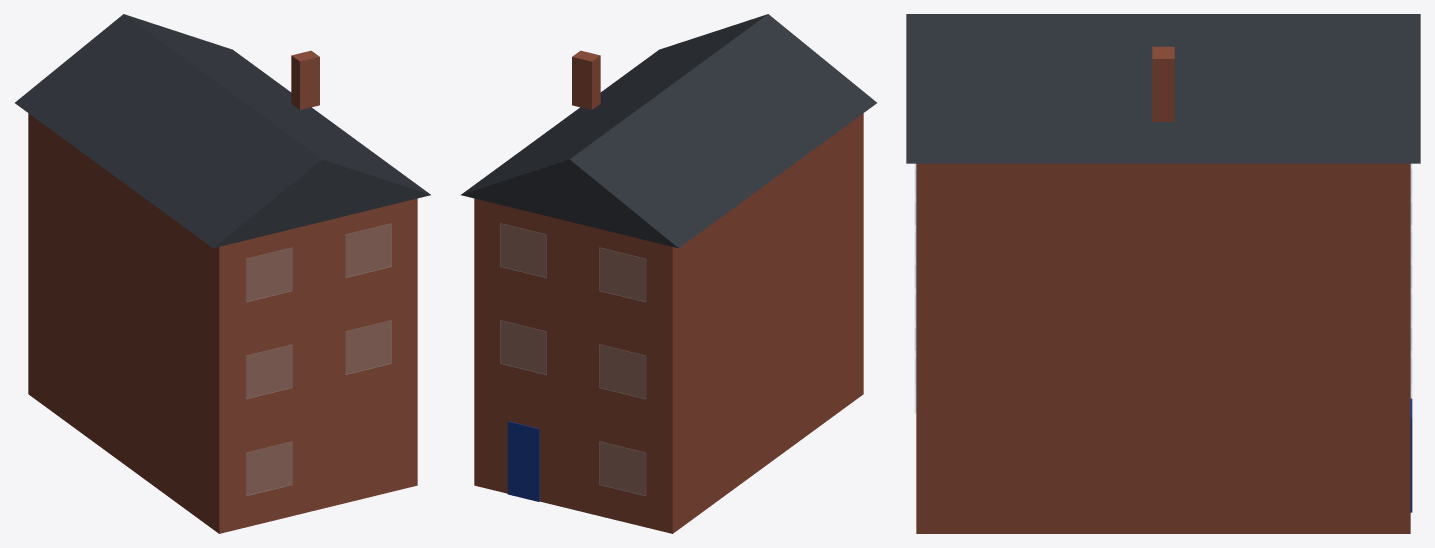
File: context.house_3_storey.glb
3 renders of one model, left to right at view 1: azimuth 30°, elevation 25°; view 2: azimuth 150°, elevation 25°; view 3: azimuth 270°, elevation 25°, orthographic. The views are drawn at different scales.
Visible parts, largest first — view 1: walls__brick, roof__slate, openings__glass, roof__brick; view 2: walls__brick, roof__slate, openings__glass, openings__plastic_blue, roof__brick; view 3: walls__brick, roof__slate, roof__brick, openings__glass.
Part boxes in pixels (box(x1,y1,x2,y2)): walls__brick: box(28, 113, 417, 533); roof__slate: box(15, 14, 430, 248); openings__glass: box(246, 223, 391, 495); roof__brick: box(291, 50, 319, 109); walls__brick: box(474, 113, 863, 533); roof__slate: box(461, 14, 876, 248); openings__glass: box(500, 223, 645, 495); openings__plastic_blue: box(507, 421, 539, 501); roof__brick: box(572, 50, 600, 109); walls__brick: box(916, 163, 1410, 533); roof__slate: box(906, 14, 1420, 163); roof__brick: box(1152, 46, 1174, 121); openings__glass: box(914, 164, 1412, 413).
Size of the model in its own units: 6.6 by 10.5 by 10.4.
